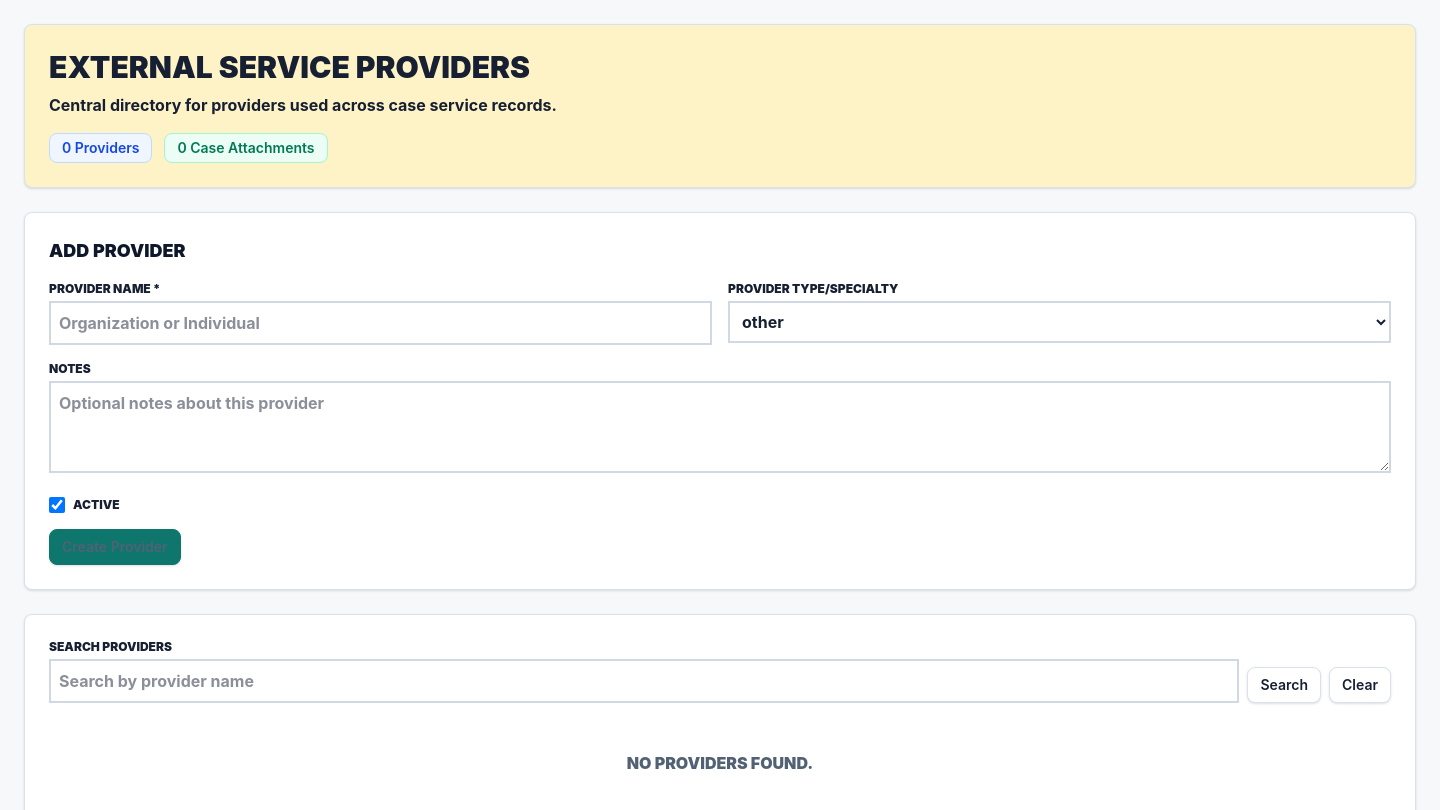
Test: ExternalServiceProvidersPage › creates a provider and refreshes the list
Type "Harbor Housing" into the field labelled "Provider Name *" at (380,323), box [49,301,712,345]
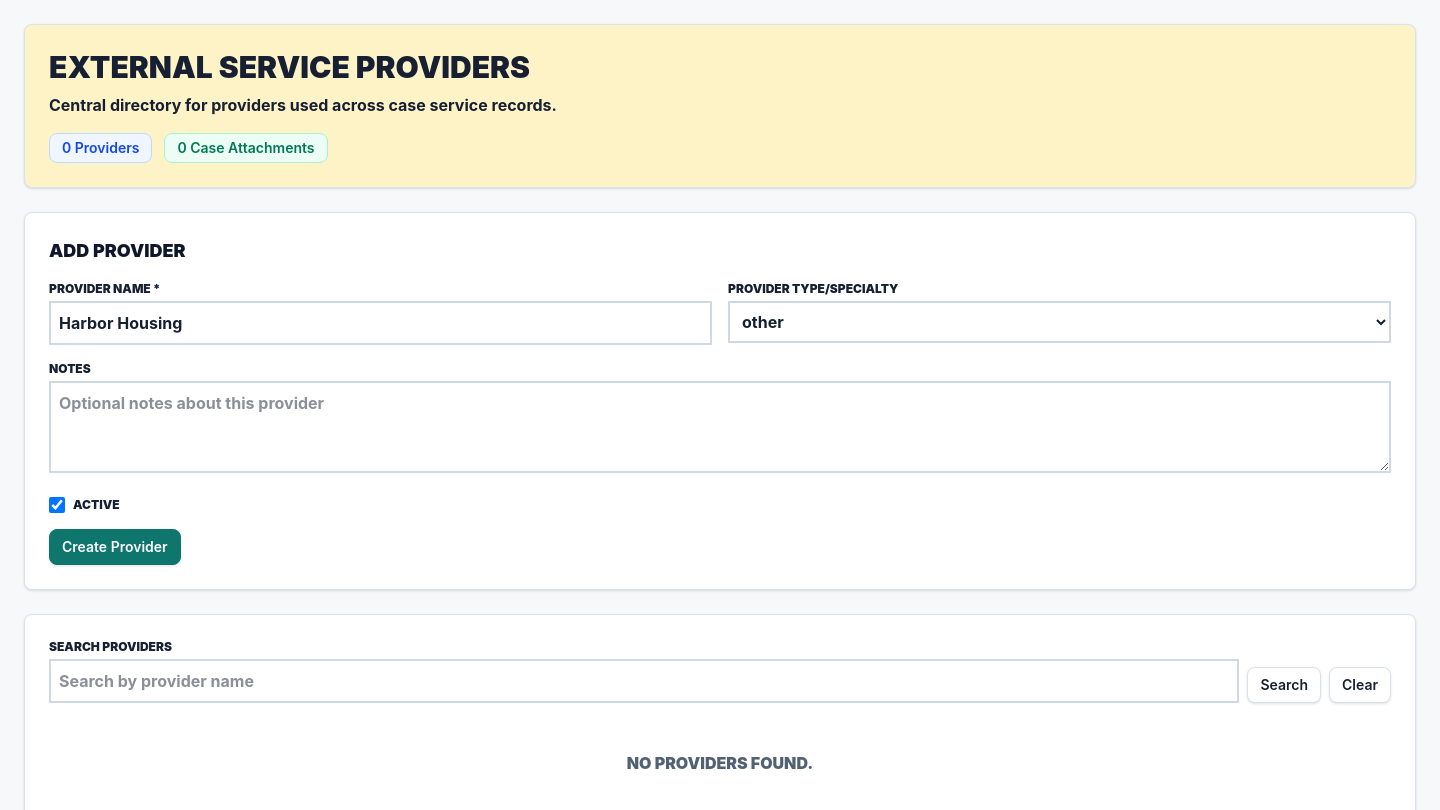
Select "housing" in the dropdown labelled "Provider Type/Specialty" at (1060,322), box [728,301,1391,343]
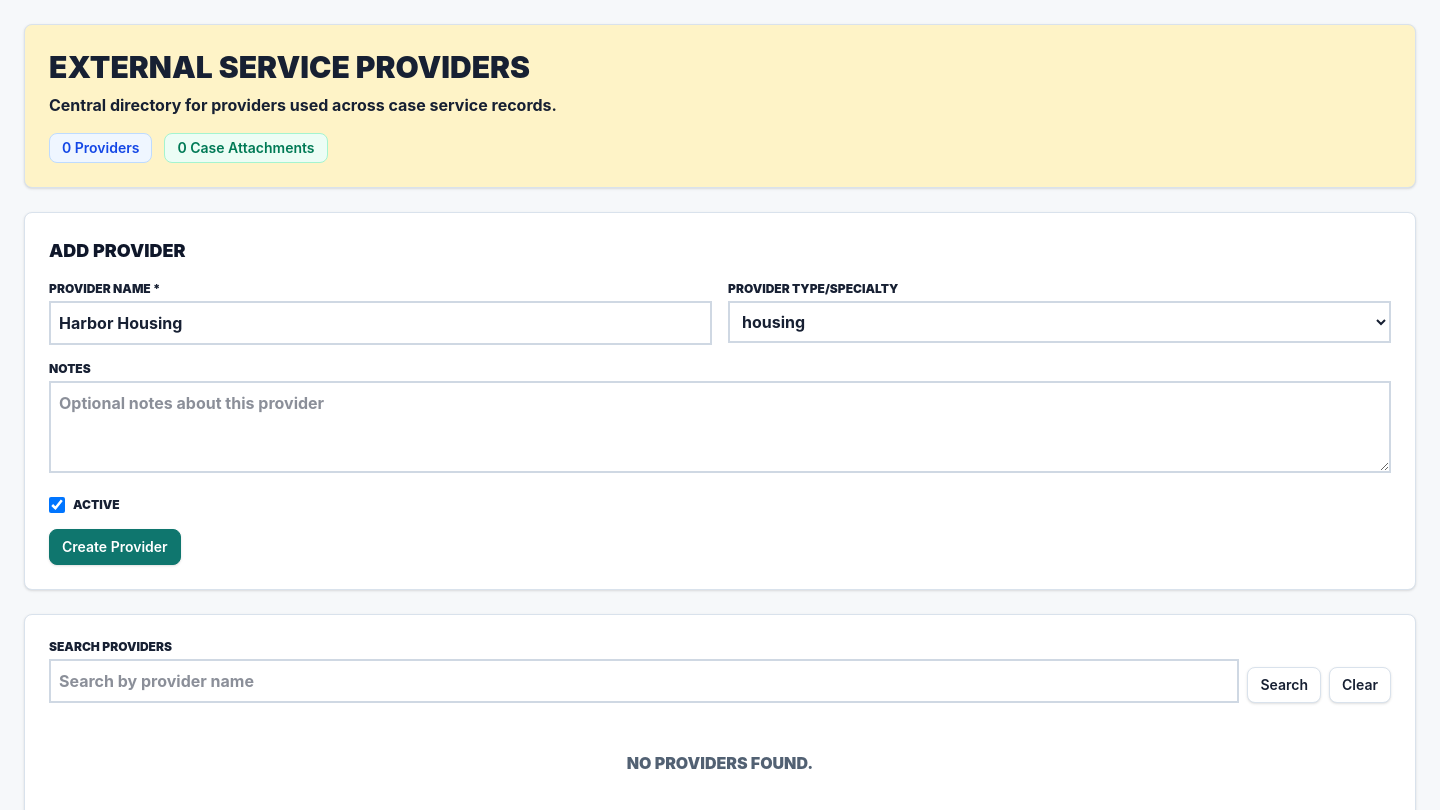
Type "Rapid placement support" into the text box labelled "Notes" at (720,427), box [49,381,1391,473]
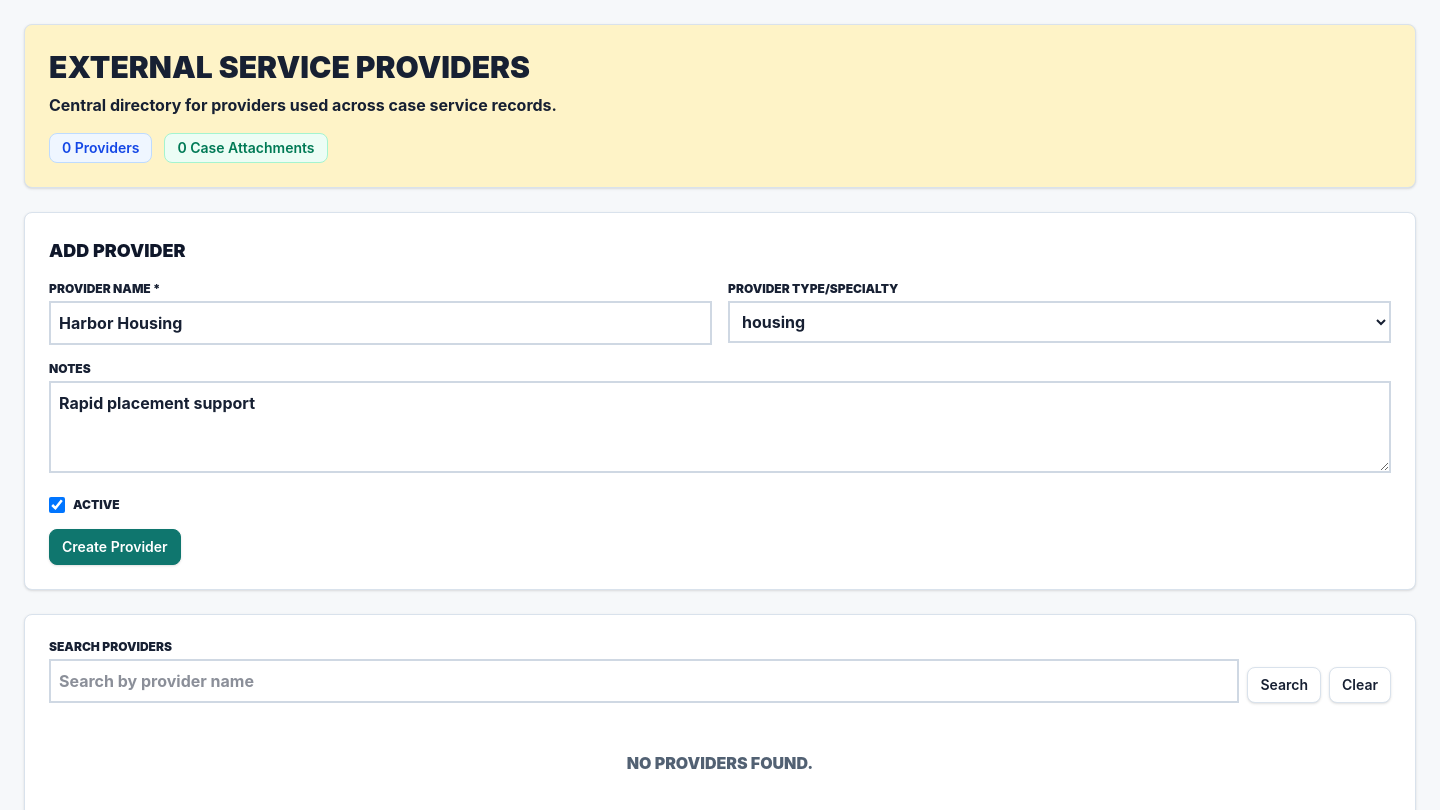
Click the button "Create Provider" at (115,547), box [49,529,181,565]
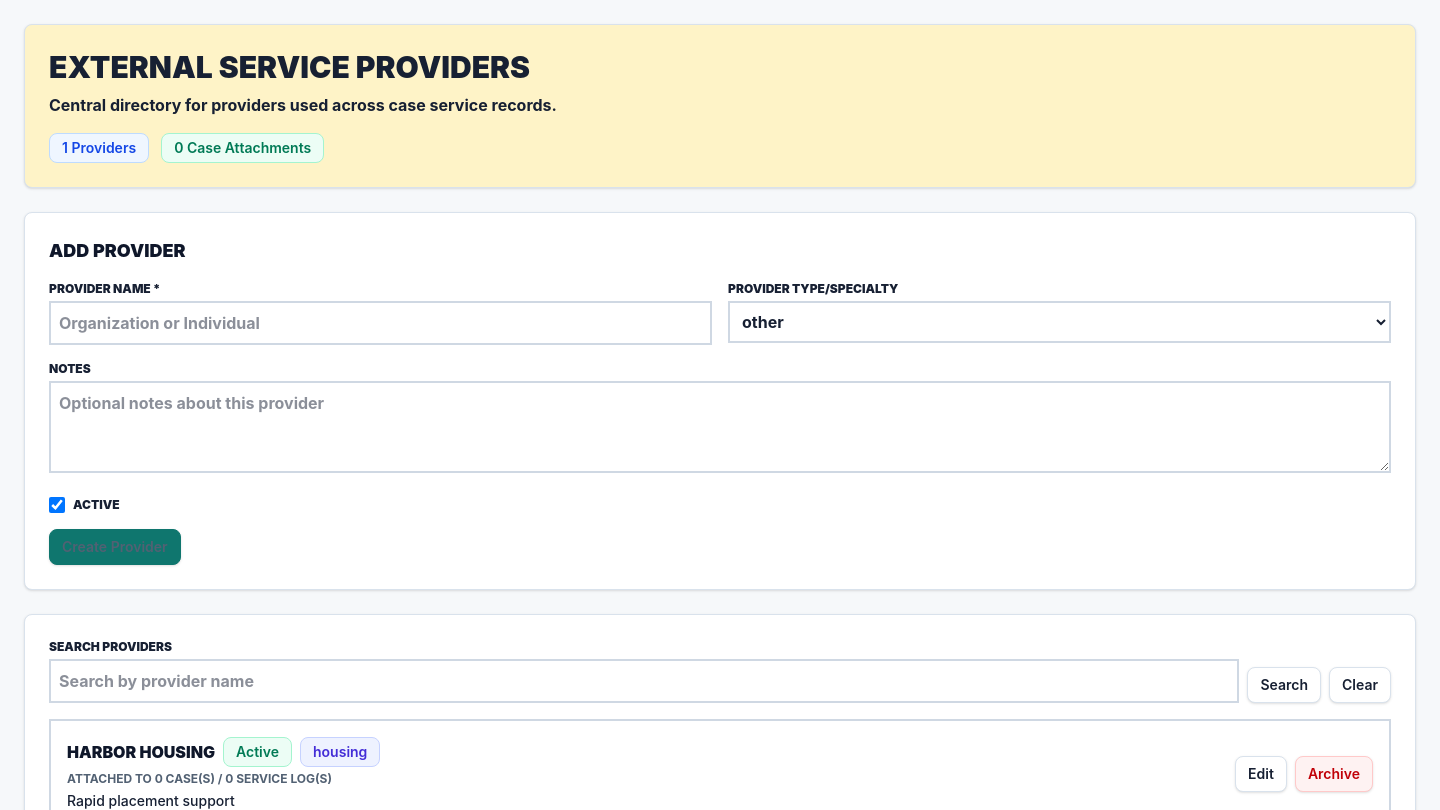
Now the heading "Harbor Housing" is shown, box [67,740,215,764]
